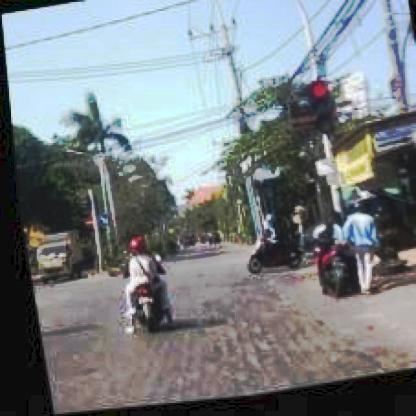Traffic Light -Red-: (305, 85, 333, 143)
